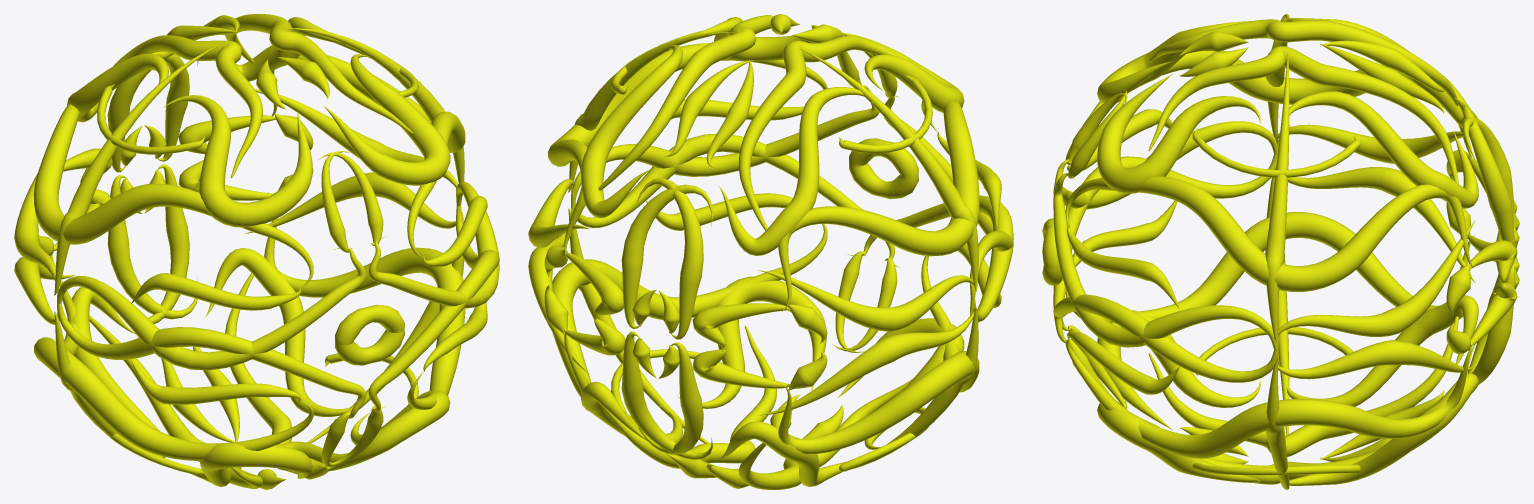
File: Model_Reliquia_Falso.fbx
3 views of the same model, side by side, from view 1: azimuth 30°, elevation 25°; view 2: azimuth 150°, elevation 25°; view 3: azimuth 270°, elevation 25° (orthographic).
Parts seen in each view (by area): view 1: BézierCurve.Falso; view 2: BézierCurve.Falso; view 3: BézierCurve.Falso.
Boxes of the visible parts, <box> form: BézierCurve.Falso: <box>14,14,499,489</box>; BézierCurve.Falso: <box>528,14,1013,489</box>; BézierCurve.Falso: <box>1042,14,1519,489</box>.
Size of the model in its own units: 2.62 by 2.65 by 2.64.
